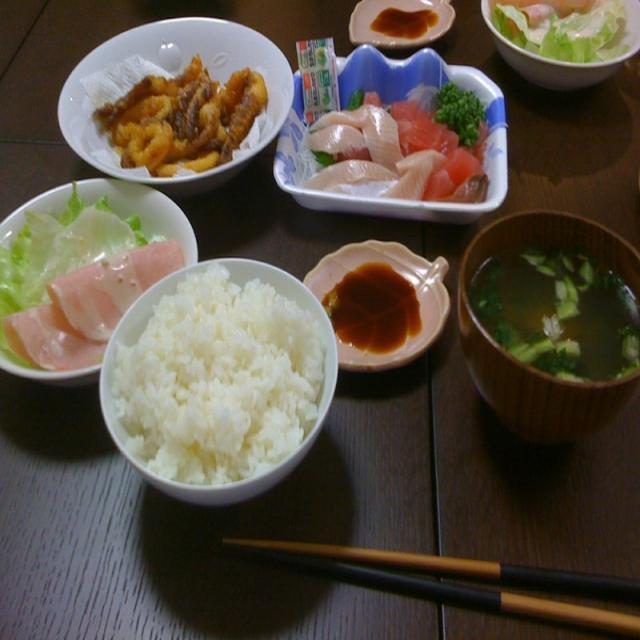Rice: (93, 234, 340, 520)
